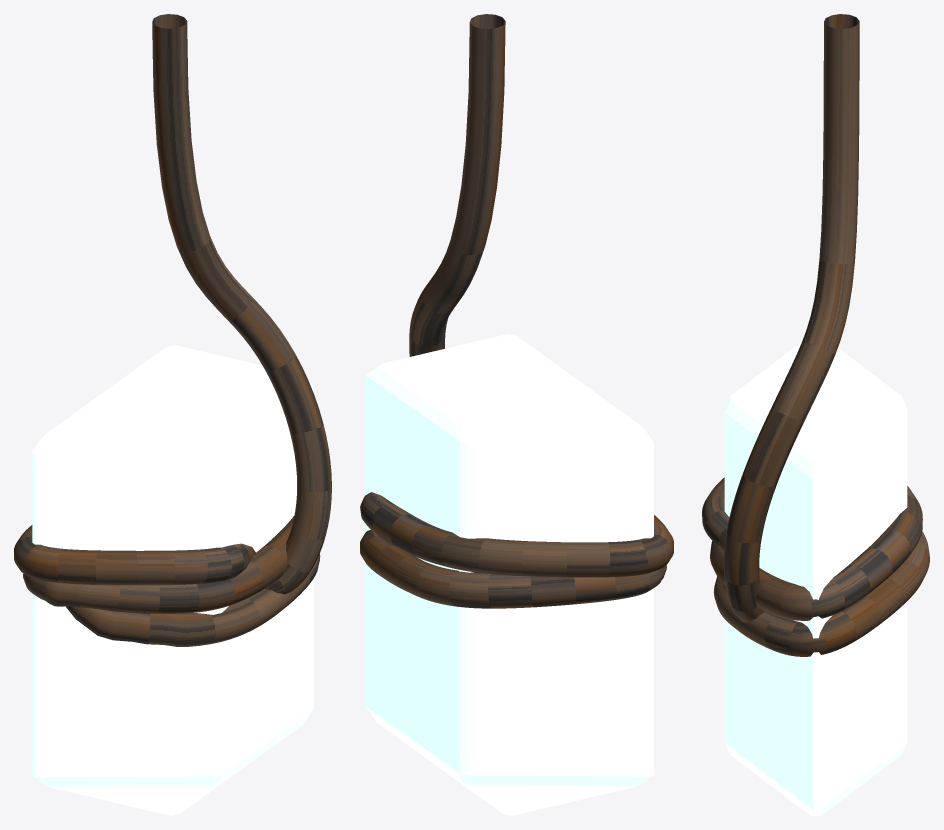
Rendered from Gem.glb.
3 renders of one model, left to right at view 1: azimuth 30°, elevation 25°; view 2: azimuth 150°, elevation 25°; view 3: azimuth 270°, elevation 25°, orthographic. The views are drawn at different scales.
Parts seen in each view (by area): view 1: Gem, Rope; view 2: Gem, Rope; view 3: Gem, Rope.
Boxes of the visible parts, x1=… form: Gem: x1=32, y1=345, x2=313, y2=815; Rope: x1=14, y1=14, x2=331, y2=646; Gem: x1=366, y1=334, x2=653, y2=815; Rope: x1=360, y1=14, x2=673, y2=608; Gem: x1=724, y1=342, x2=907, y2=815; Rope: x1=702, y1=14, x2=929, y2=656.
Size of the model in its own units: 0.1949 by 0.4906 by 0.1273.
2 materials, 1 textured.
